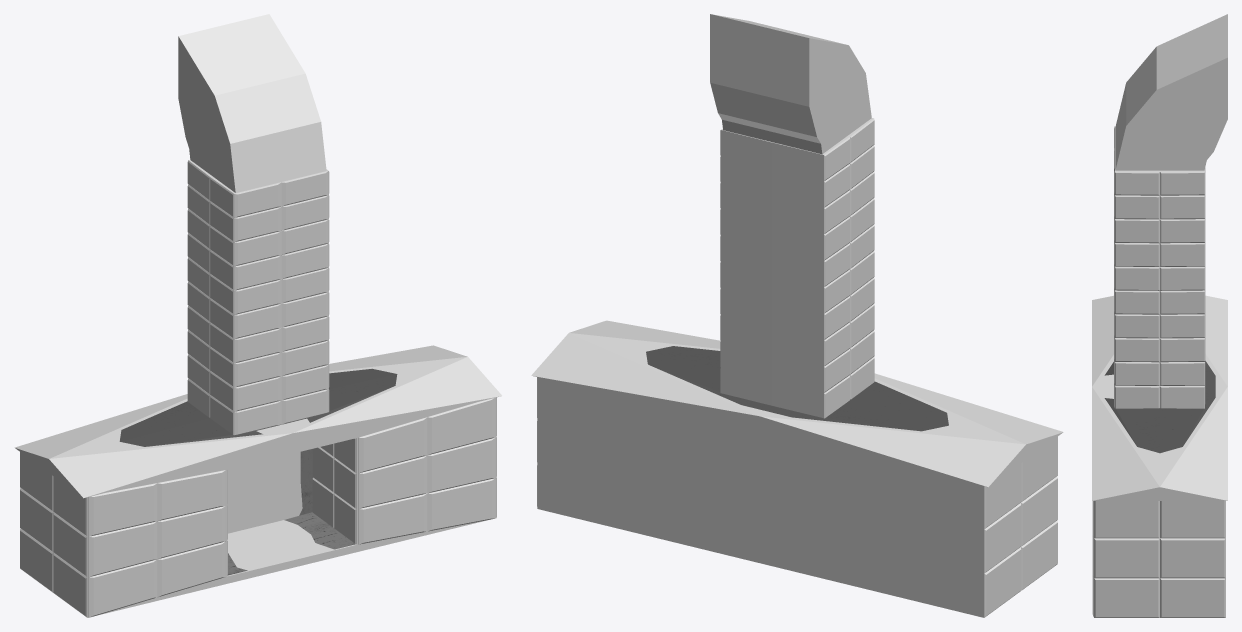
File: Fireplace.fbx
The picture shows the model from 3 angles, left to right: view 1: azimuth 30°, elevation 25°; view 2: azimuth 150°, elevation 25°; view 3: azimuth 270°, elevation 25°; orthographic projection. The views are drawn at different scales.
Parts seen in each view (by area): view 1: Fireplace; view 2: Fireplace; view 3: Fireplace.
Part boxes in pixels (<box>): Fireplace: <box>15,14,501,617</box>; Fireplace: <box>531,14,1063,617</box>; Fireplace: <box>1092,14,1227,617</box>.
Size of the model in its own units: 721 by 811 by 206.
